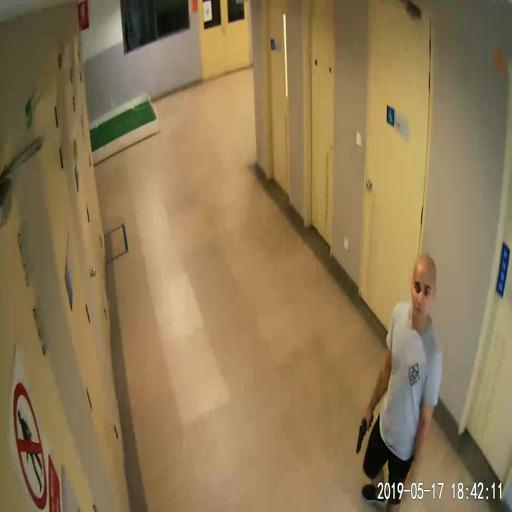pistol: (356, 411, 373, 452)
